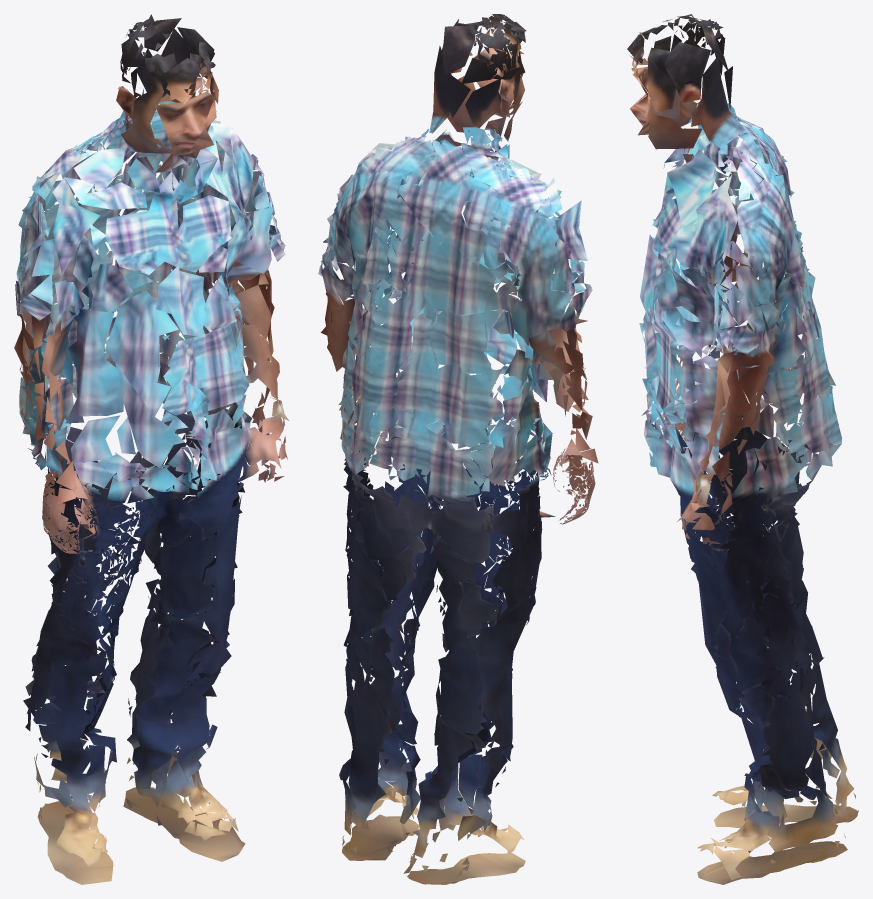
The model's file is newperson5.glb.
The picture shows the model from 3 angles, left to right: view 1: azimuth 30°, elevation 25°; view 2: azimuth 150°, elevation 25°; view 3: azimuth 270°, elevation 25°; orthographic projection. The views are drawn at different scales.
Visible parts, largest first — view 1: Object_4, Object_2, Object_3, Object_5; view 2: Object_2, Object_3, Object_4, Object_5; view 3: Object_3, Object_2, Object_4, Object_5.
Boxes of the visible parts, x1,y1,x2,y2 form: Object_4: (14, 18, 285, 565); Object_2: (15, 110, 245, 884); Object_3: (56, 14, 289, 852); Object_5: (35, 460, 164, 665); Object_2: (339, 120, 592, 884); Object_3: (318, 14, 550, 831); Object_4: (323, 19, 598, 522); Object_5: (459, 448, 595, 610); Object_3: (627, 14, 841, 854); Object_2: (697, 102, 858, 884); Object_4: (629, 22, 745, 481); Object_5: (662, 393, 744, 553).
Bounding box in the file's own units: 0.5619 × 1.68 × 0.4281.
Materials: 1 (1 with a texture image).
